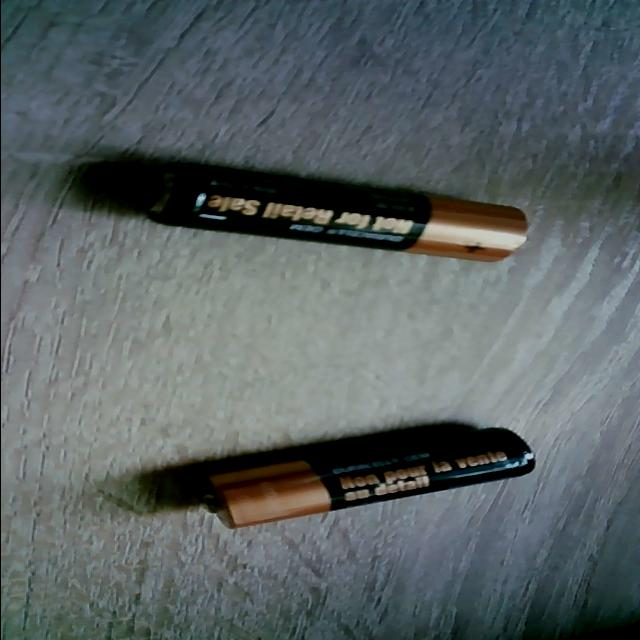AA: (142, 162, 530, 262), (200, 426, 537, 530)
